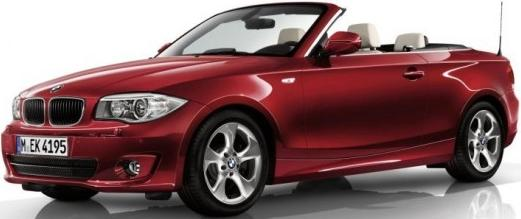front_view: (4, 83, 188, 194)
headlight: (91, 87, 193, 129)
